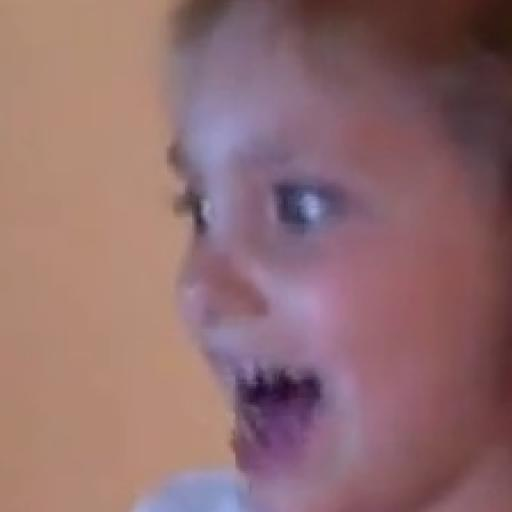Autism: (157, 22, 512, 512)
